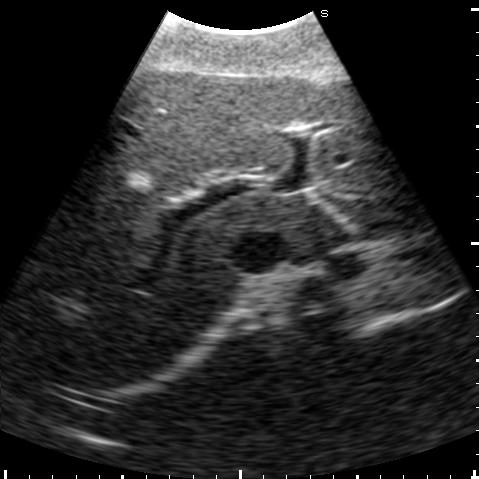IVC: (229, 230, 285, 271)
S1: (264, 198, 334, 249)
S2: (319, 188, 432, 237)
S3: (289, 80, 410, 193)
S4: (102, 71, 319, 199)
Tumor: (124, 170, 150, 190)
